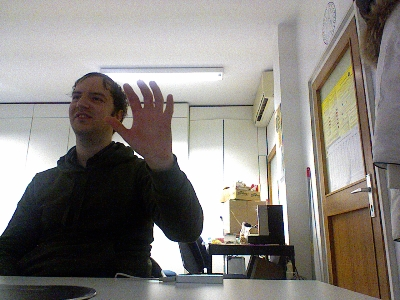布: (102, 77, 175, 160)
